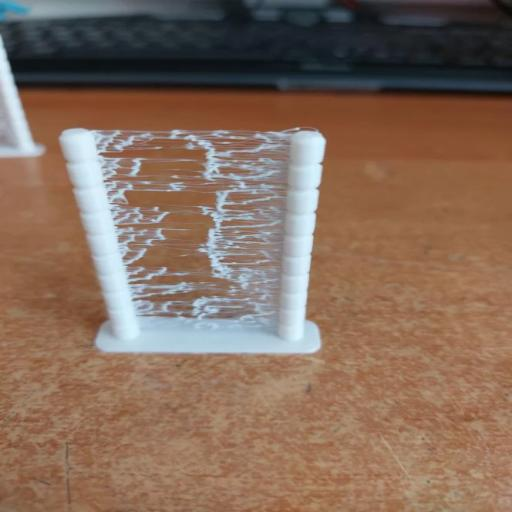stringing: (96, 129, 294, 331)
